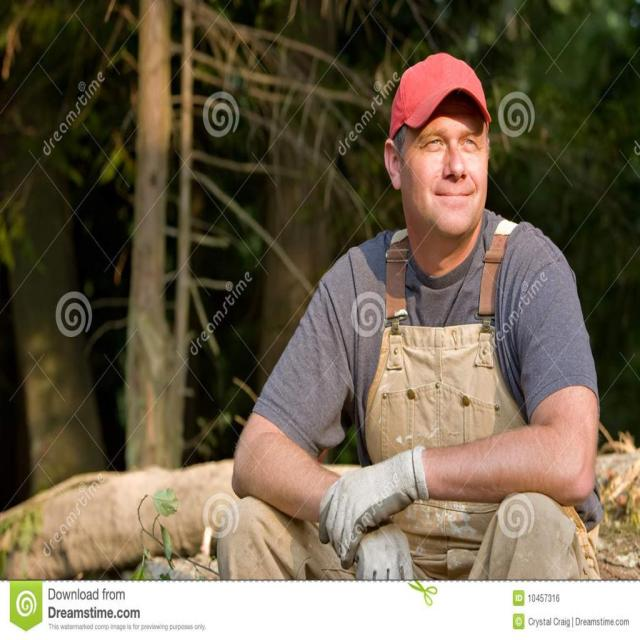Face: (401, 93, 505, 248)
